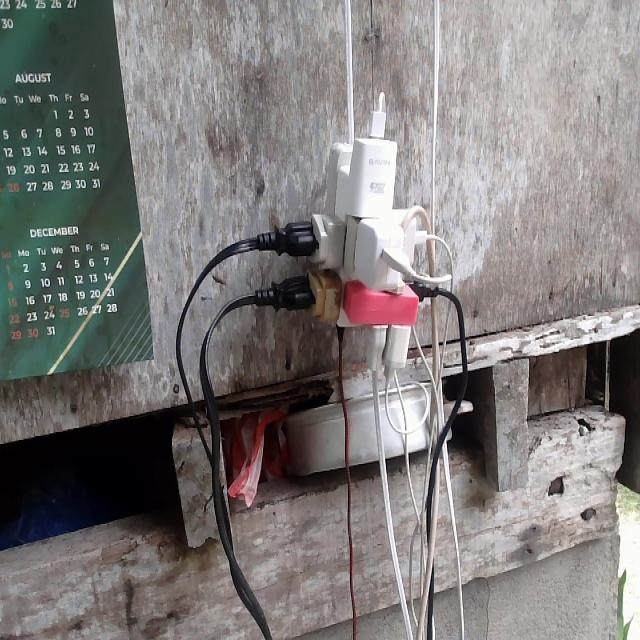-: (253, 103, 439, 392)
